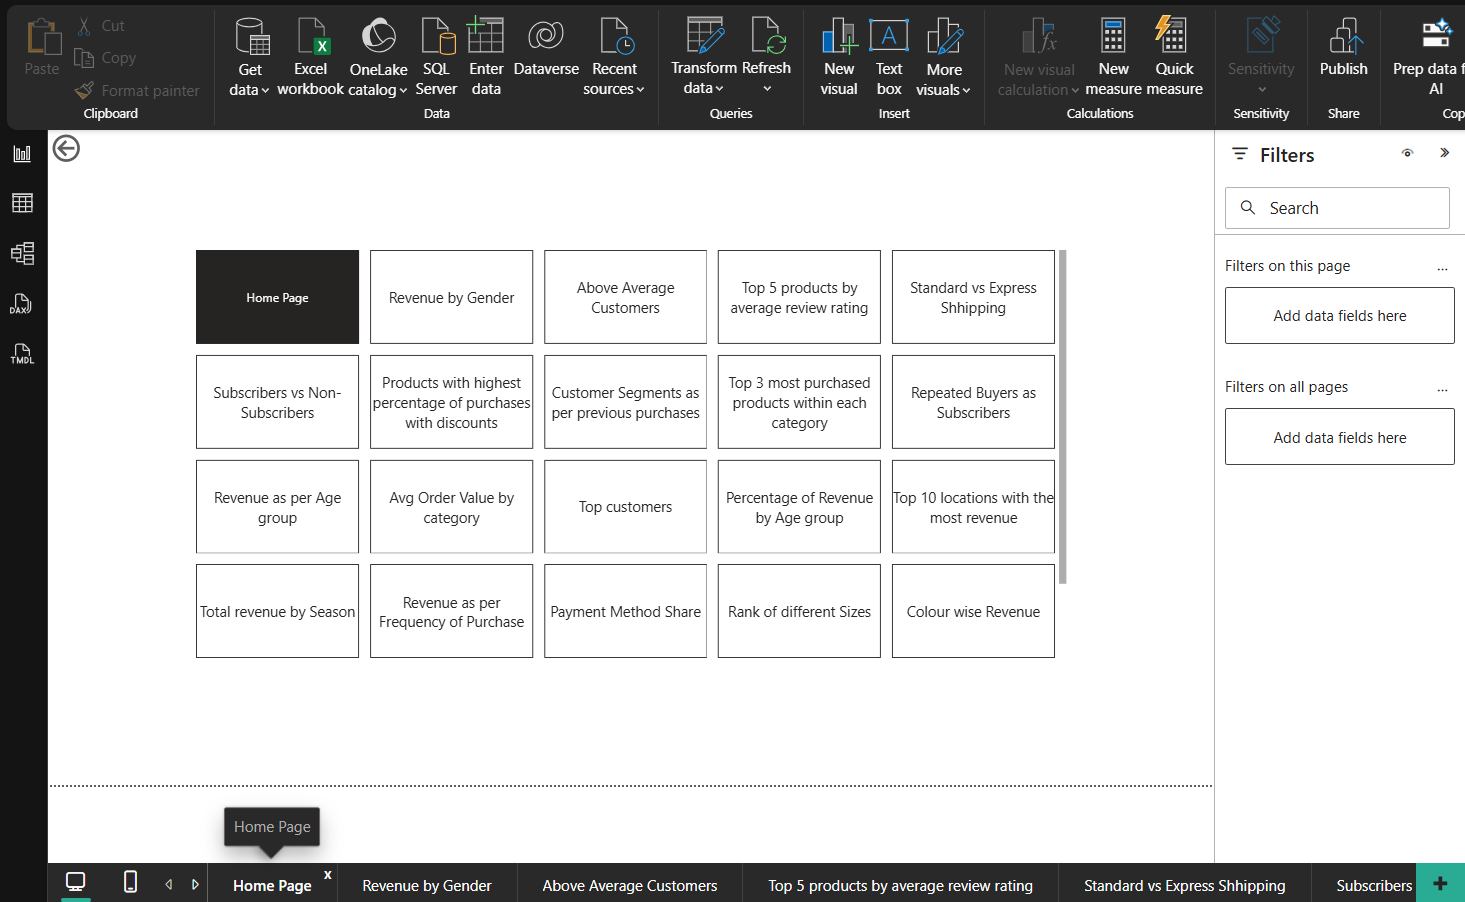

This screenshot's page, from the dashboard's own definition file:
{"tool":"powerbi","page":{"name":"Home Page","canvas":[1280,720],"ordinal":0},"visuals":[{"type":"pageNavigator","box":[161.7,131.7,956.7,456.7],"z":0},{"type":"actionButton","box":[0,0,100,40],"z":1000}]}

Visuals, with their boxes on the page's 1280x720 design canvas (x1, y1, x2, y2). These are canvas units, not pixel positions in the 1465x902 screenshot, which may show the page scaled, cropped or inside an application window:
pageNavigator: select_region(162, 132, 1118, 588)
actionButton: select_region(0, 0, 100, 40)
